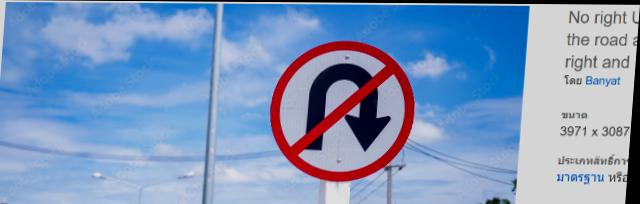not_u_turn_right: (263, 34, 428, 185)
